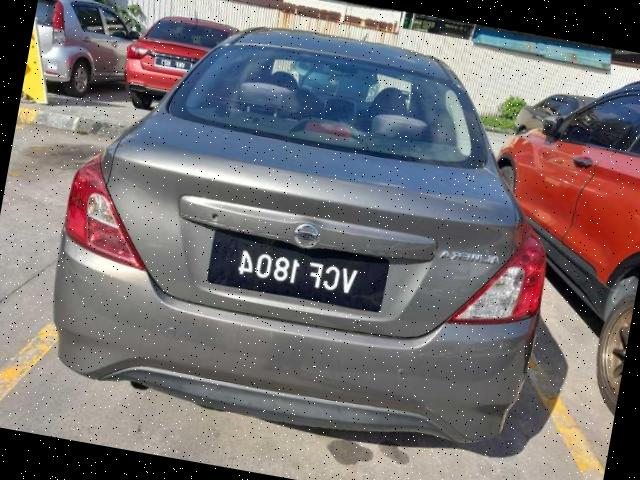License_Plate: (205, 229, 392, 315), (155, 58, 191, 72)
car: (35, 1, 583, 464), (117, 7, 242, 124)
